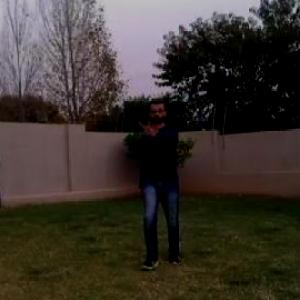takeoff-hand: (138, 118, 163, 146)
